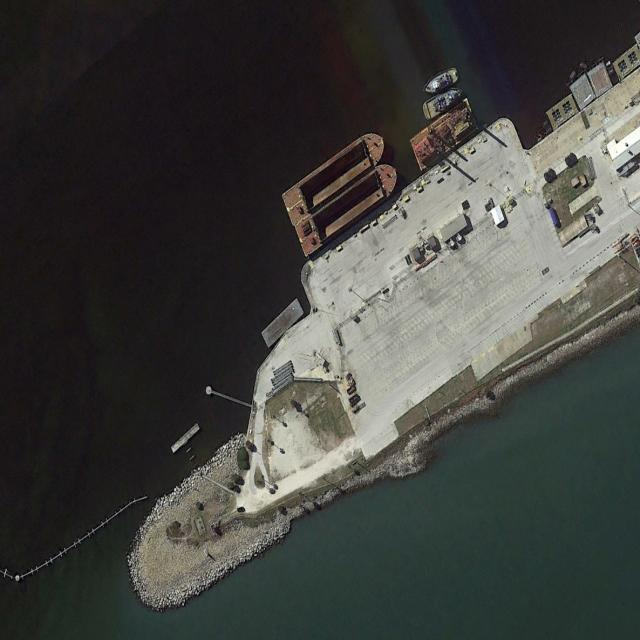Cargo: (295, 157, 401, 257), (281, 124, 387, 223)
Other Ship: (421, 80, 465, 124), (420, 63, 460, 100)
